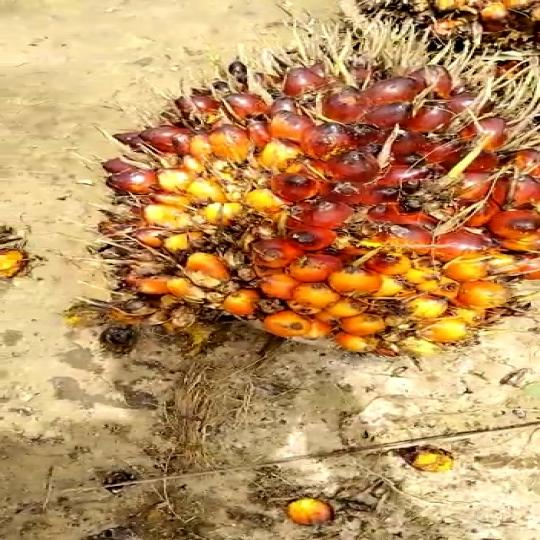masak: (56, 23, 540, 390)
